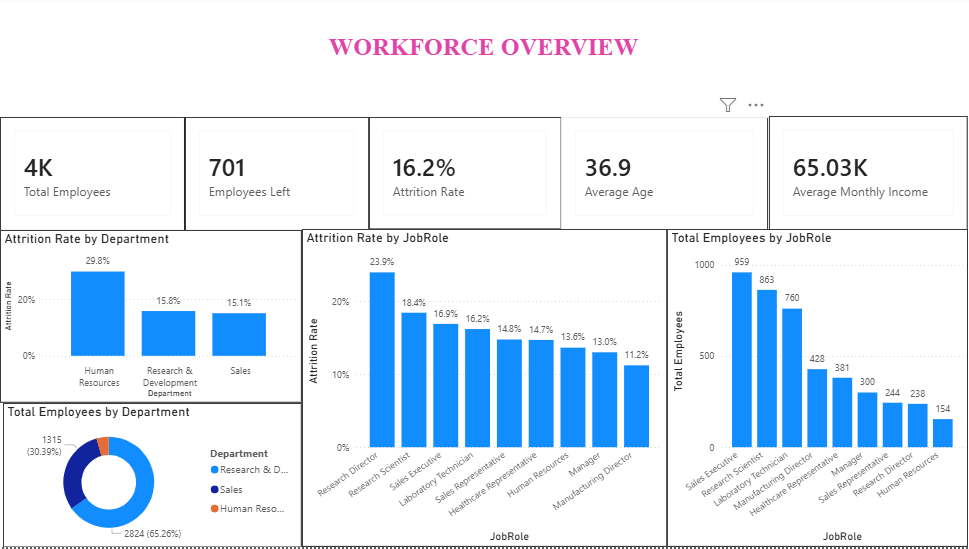

The dashboard page shown, as its layout file describes it:
{"tool":"powerbi","page":{"name":"Page 1","canvas":[1280,720],"ordinal":0},"visuals":[{"type":"cardVisual","fields":{"Data":["HR_Analytics_Cleaned_Master.Total Employees"]},"box":[0,156.9,242.2,148.6],"z":0},{"type":"cardVisual","fields":{"Data":["HR_Analytics_Cleaned_Master.Employees Left"]},"box":[242.2,156.9,240.9,148.6],"z":1000},{"type":"cardVisual","fields":{"Data":["HR_Analytics_Cleaned_Master.Attrition Rate"]},"box":[483.1,156.9,251.9,147.3],"z":2000},{"type":"cardVisual","fields":{"Data":["HR_Analytics_Cleaned_Master.Average Age"]},"box":[735,156.9,271.1,148.6],"z":3000},{"type":"cardVisual","fields":{"Data":["HR_Analytics_Cleaned_Master.Average Monthly Income"]},"box":[1006.2,156.2,260.4,149.5],"z":4000},{"type":"clusteredColumnChart","fields":{"Category":["HR_Analytics_Cleaned_Master.Department"],"Y":["HR_Analytics_Cleaned_Master.Attrition Rate"]},"box":[0,305.5,395,225.7],"z":5000},{"type":"donutChart","fields":{"Category":["HR_Analytics_Cleaned_Master.Department"],"Y":["HR_Analytics_Cleaned_Master.Total Employees"]},"box":[4.1,531.3,390.9,188.6],"z":6000},{"type":"clusteredColumnChart","fields":{"Category":["HR_Analytics_Cleaned_Master.JobRole"],"Y":["HR_Analytics_Cleaned_Master.Total Employees"]},"box":[872.6,304.2,393.6,415.7],"z":7000},{"type":"clusteredColumnChart","fields":{"Category":["HR_Analytics_Cleaned_Master.JobRole"],"Y":["HR_Analytics_Cleaned_Master.Attrition Rate"]},"box":[395,304.2,477.6,415.7],"z":8000},{"type":"textbox","box":[0,41.3,1266.2,61.9],"z":9000}]}

Visuals, with their boxes in screenshot pixels (x1, y1, x2, y2), scaled from the page's 1280x720 canvas onto the 969x549 screenshot:
cardVisual - HR_Analytics_Cleaned_Master.Total Employees: box(0, 120, 183, 233)
cardVisual - HR_Analytics_Cleaned_Master.Employees Left: box(183, 120, 366, 233)
cardVisual - HR_Analytics_Cleaned_Master.Attrition Rate: box(366, 120, 556, 232)
cardVisual - HR_Analytics_Cleaned_Master.Average Age: box(556, 120, 762, 233)
cardVisual - HR_Analytics_Cleaned_Master.Average Monthly Income: box(762, 119, 959, 233)
clusteredColumnChart - HR_Analytics_Cleaned_Master.Department x HR_Analytics_Cleaned_Master.Attrition Rate: box(0, 233, 299, 405)
donutChart - HR_Analytics_Cleaned_Master.Department x HR_Analytics_Cleaned_Master.Total Employees: box(3, 405, 299, 548)
clusteredColumnChart - HR_Analytics_Cleaned_Master.JobRole x HR_Analytics_Cleaned_Master.Total Employees: box(661, 232, 959, 548)
clusteredColumnChart - HR_Analytics_Cleaned_Master.JobRole x HR_Analytics_Cleaned_Master.Attrition Rate: box(299, 232, 661, 548)
textbox: box(0, 31, 959, 79)
